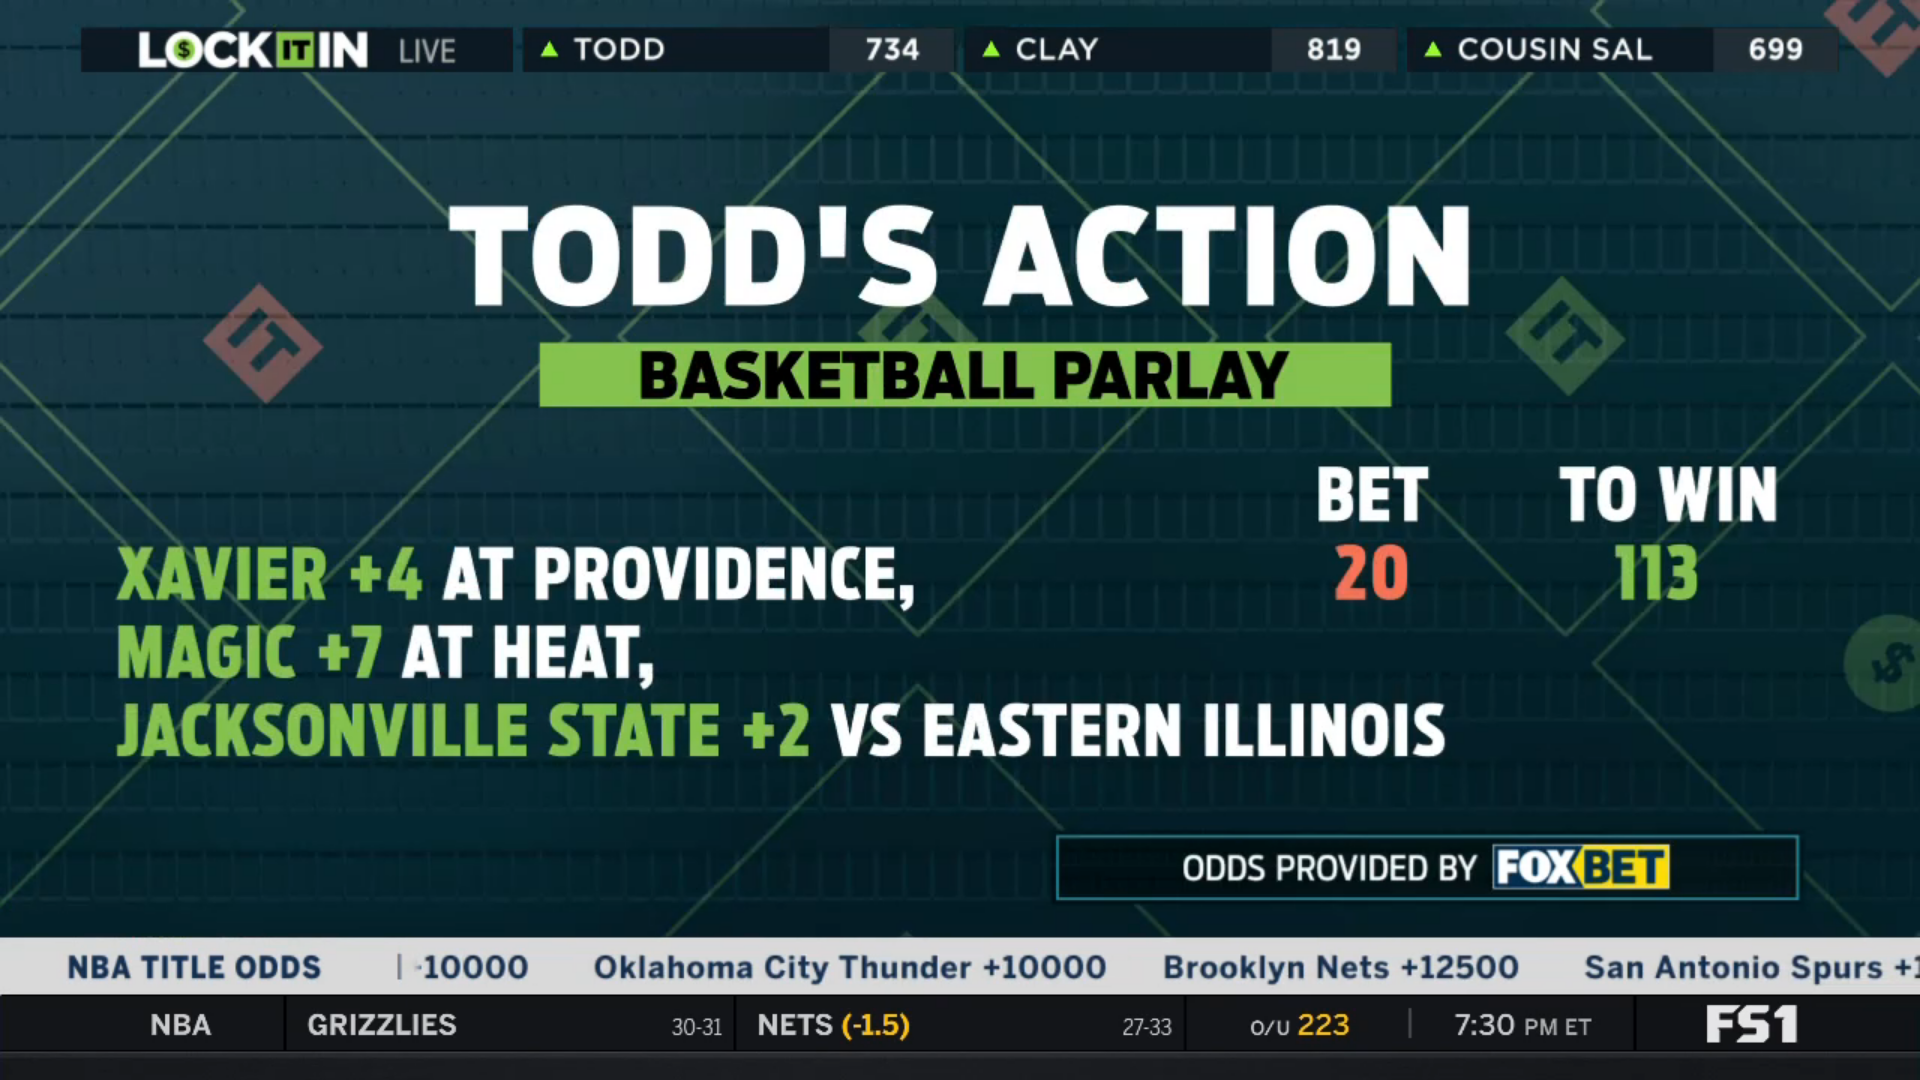Bet: (104, 535, 1455, 769)
Bet Amount: (1304, 451, 1435, 612)
Subtitle: (524, 332, 1408, 419)
Title: (436, 193, 1485, 316)
To Win: (1544, 448, 1788, 611)
Top Bar: (73, 16, 1849, 80)
